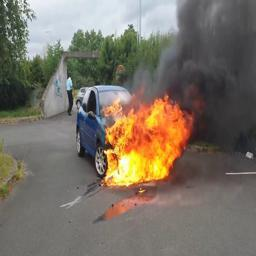fire: (103, 92, 193, 185)
